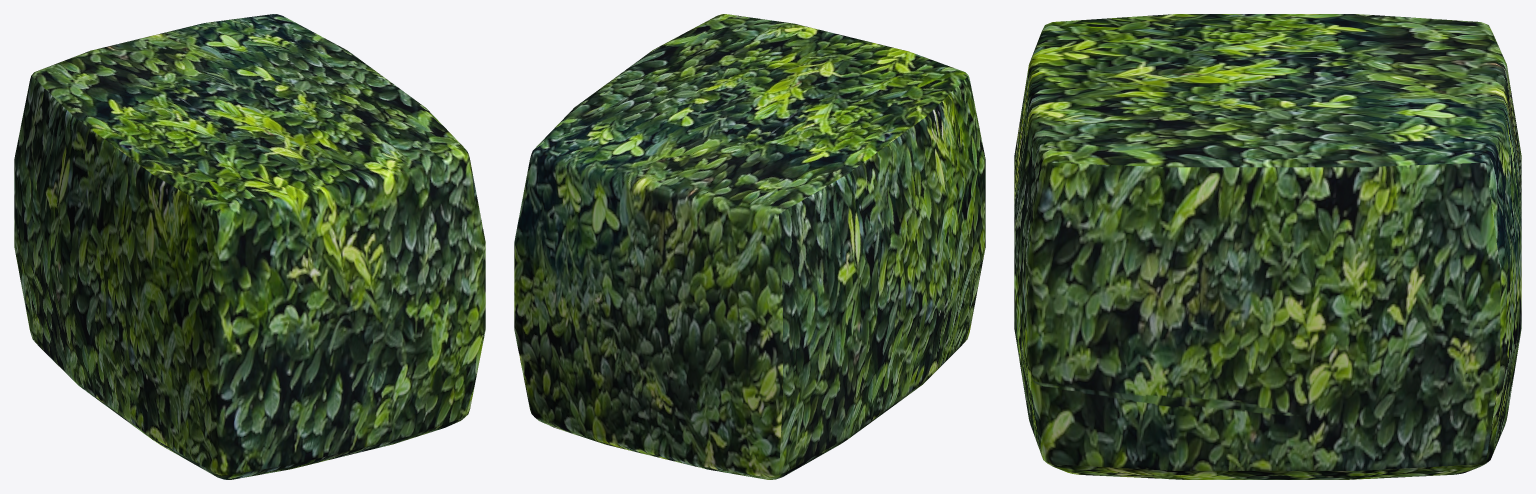
File: wwwunderkammer_Regine_Asset_hedgeSquare.glb
3 renders of one model, left to right at view 1: azimuth 30°, elevation 25°; view 2: azimuth 150°, elevation 25°; view 3: azimuth 270°, elevation 25°, orthographic. The views are drawn at different scales.
Parts seen in each view (by area): view 1: square_hedge; view 2: square_hedge; view 3: square_hedge.
Part boxes in pixels (box(x1,y1,x2,y2)): square_hedge: box(14, 14, 485, 479); square_hedge: box(514, 14, 985, 479); square_hedge: box(1014, 14, 1521, 479).
Size of the model in its own units: 0.8299 by 0.7629 by 1.06.
Materials: 1 (1 with a texture image).
